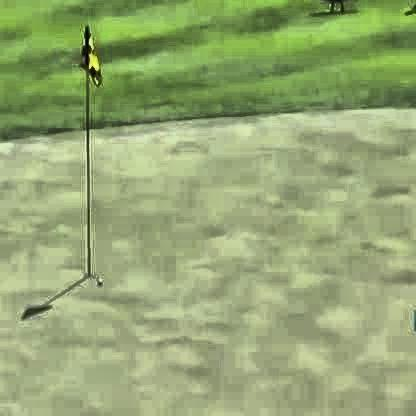golfball: (96, 272, 101, 282)
